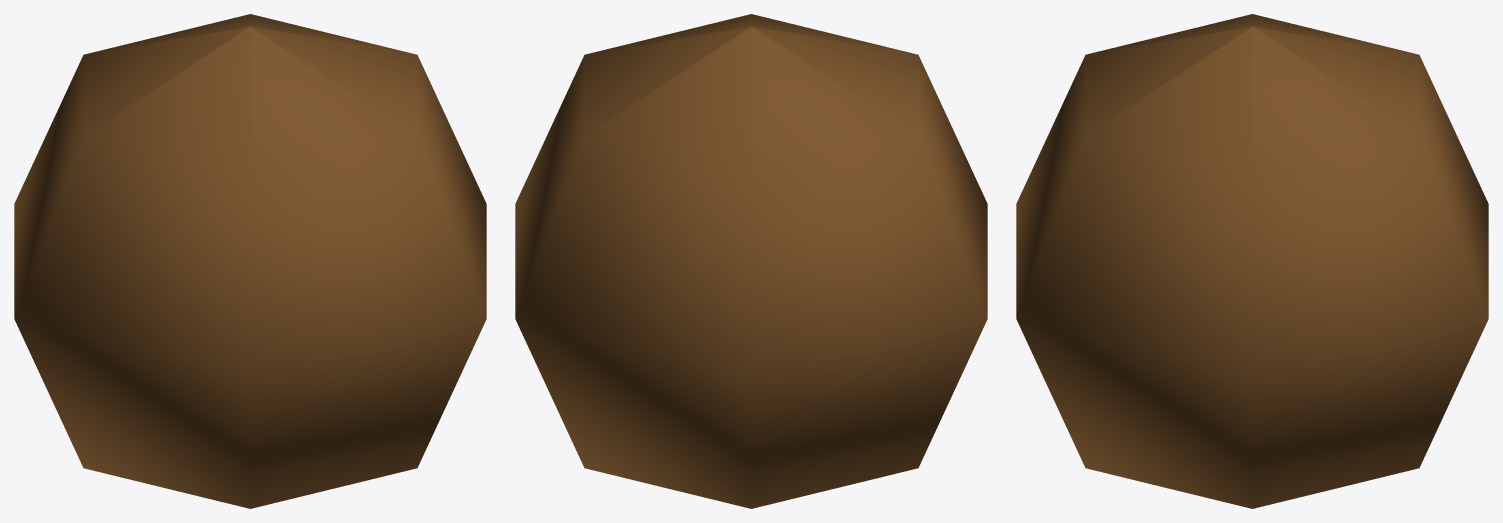
File: fruit-coconut-gold-far.glb
3 views of the same model, side by side, from view 1: azimuth 30°, elevation 25°; view 2: azimuth 150°, elevation 25°; view 3: azimuth 270°, elevation 25° (orthographic).
Parts seen in each view (by area): view 1: fruit-coconut-far; view 2: fruit-coconut-far; view 3: fruit-coconut-far.
Boxes of the visible parts, <box> form: fruit-coconut-far: <box>14,14,486,508</box>; fruit-coconut-far: <box>515,14,987,508</box>; fruit-coconut-far: <box>1016,14,1488,508</box>.
Bounding box in the file's own units: 0.56 × 0.532 × 0.485.
